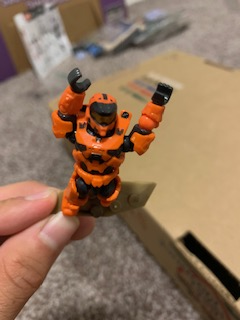spartan: (51, 68, 173, 218)
up: (50, 68, 175, 170)
